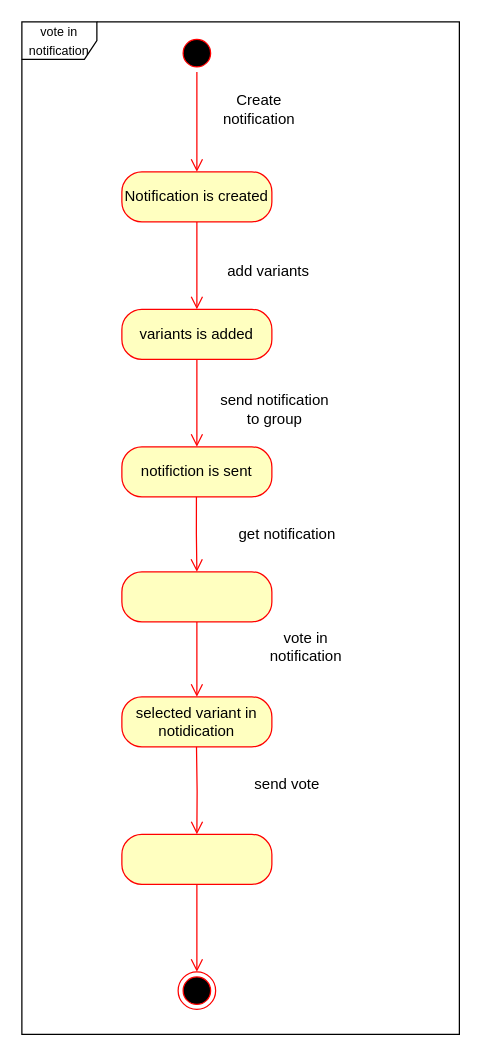
The diagram is 481 pixels wide and 1056 high, and some of its shapes have lost their labels. Each missing label, with the centre of its shape:
"notifiction is recived" belongs at (x=196, y=596).
"vote is sent" belongs at (x=196, y=858).
